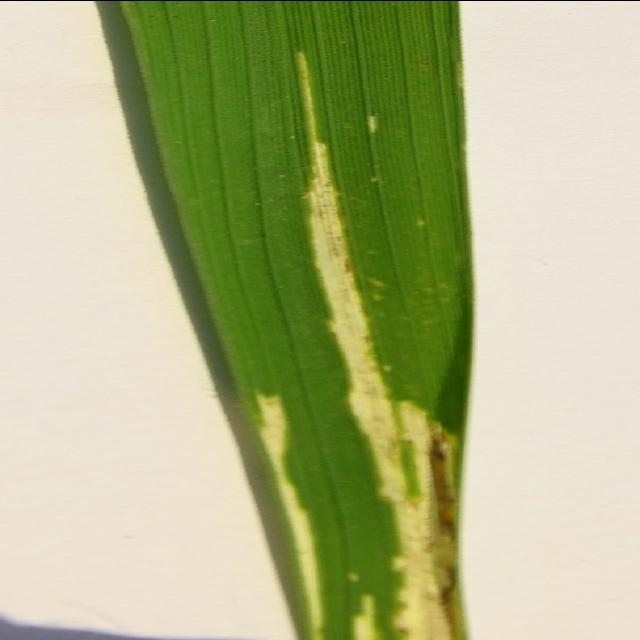Unhealthy: (295, 46, 468, 640), (255, 392, 324, 640), (349, 596, 375, 640), (365, 114, 379, 132), (349, 572, 357, 580)
